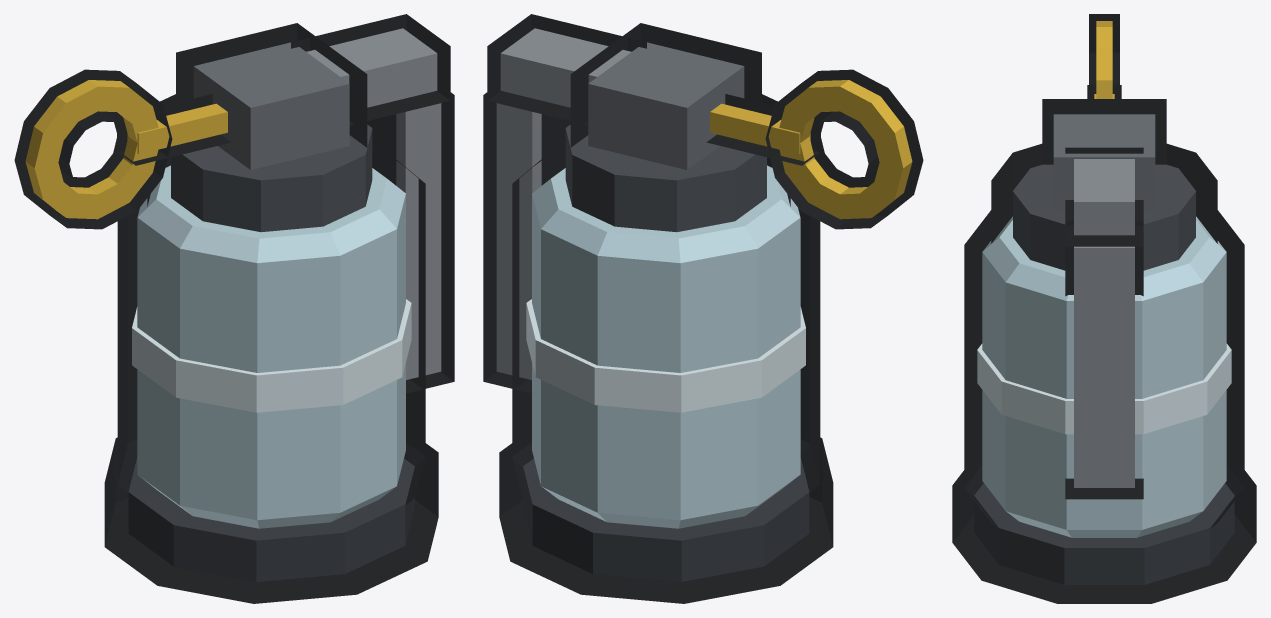
The model's file is SM_Tool_Cryo.glb.
3 views of the same model, side by side, from view 1: azimuth 30°, elevation 25°; view 2: azimuth 150°, elevation 25°; view 3: azimuth 270°, elevation 25° (orthographic). The views are drawn at different scales.
Visible parts, largest first — view 1: SM_Tool_Cryo, SM_Tool_Cryo_Outline, SM_Tool_Cryo_Pin, SM_Tool_Cryo_Pin_Outline; view 2: SM_Tool_Cryo, SM_Tool_Cryo_Outline, SM_Tool_Cryo_Pin, SM_Tool_Cryo_Pin_Outline; view 3: SM_Tool_Cryo, SM_Tool_Cryo_Outline, SM_Tool_Cryo_Pin_Outline, SM_Tool_Cryo_Pin.
Part boxes in pixels (bbox=[...]): SM_Tool_Cryo: bbox=[128, 28, 441, 581]; SM_Tool_Cryo_Outline: bbox=[104, 14, 454, 603]; SM_Tool_Cryo_Pin: bbox=[25, 80, 227, 219]; SM_Tool_Cryo_Pin_Outline: bbox=[14, 69, 231, 229]; SM_Tool_Cryo: bbox=[496, 28, 809, 581]; SM_Tool_Cryo_Outline: bbox=[483, 14, 833, 603]; SM_Tool_Cryo_Pin: bbox=[710, 80, 912, 219]; SM_Tool_Cryo_Pin_Outline: bbox=[706, 69, 923, 229]; SM_Tool_Cryo: bbox=[974, 114, 1234, 584]; SM_Tool_Cryo_Outline: bbox=[952, 99, 1256, 603]; SM_Tool_Cryo_Pin_Outline: bbox=[1087, 14, 1121, 98]; SM_Tool_Cryo_Pin: bbox=[1094, 21, 1114, 98].
Bounding box in the file's own units: 0.2067 × 0.2411 × 0.1493.
Materials: 2 (1 with a texture image).
